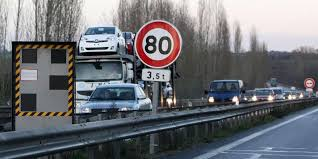Speed_limit_80km: (134, 20, 182, 69)
